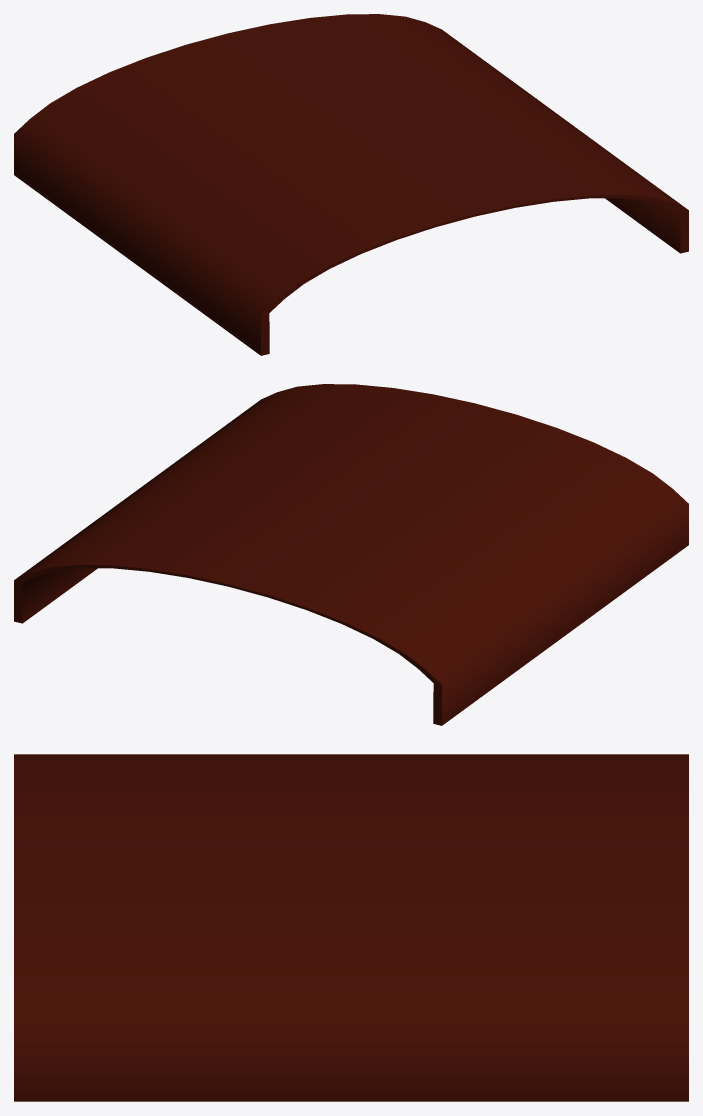
Rendered from Tunnel2.FBX.
3 renders of one model, top to bottom at view 1: azimuth 30°, elevation 25°; view 2: azimuth 150°, elevation 25°; view 3: azimuth 270°, elevation 25°, orthographic. The views are drawn at different scales.
Visible parts, largest first — view 1: Tunnel2; view 2: Tunnel2; view 3: Tunnel2.
Boxes of the visible parts, box(x1,y1,x2,y2) form: Tunnel2: box(14, 14, 688, 355); Tunnel2: box(14, 384, 688, 725); Tunnel2: box(14, 754, 688, 1101).
Bounding box in the file's own units: 3000 × 3000 × 600.
